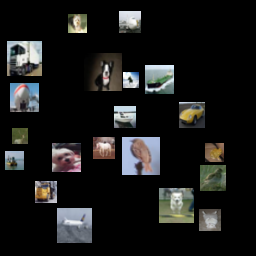airplane: (31, 30, 69, 68), (107, 80, 129, 102), (151, 118, 170, 137)
automobile: (210, 86, 239, 115)
bird: (68, 126, 97, 155), (82, 41, 98, 57), (143, 73, 159, 89)
cat: (164, 141, 193, 170), (82, 3, 101, 22)
deer: (195, 206, 217, 228)
dog: (60, 197, 98, 235), (194, 128, 232, 166)
frog: (110, 26, 148, 64)
ship: (15, 213, 53, 251), (24, 4, 46, 26), (123, 107, 145, 129), (84, 88, 100, 104), (131, 189, 147, 205)
